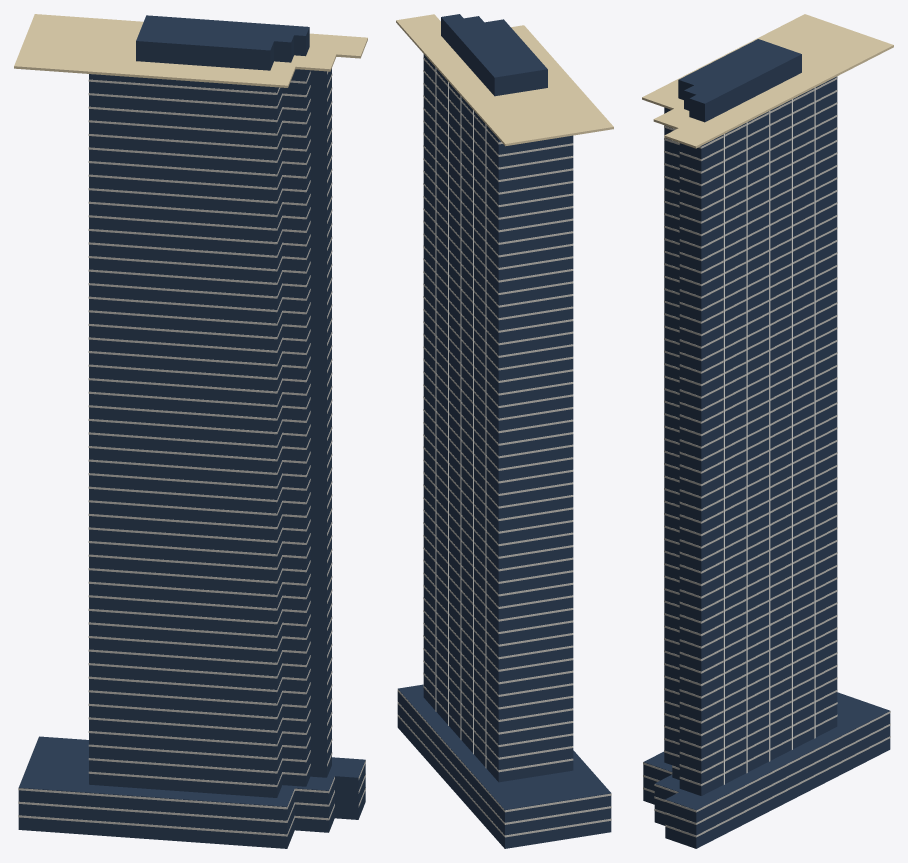
The model's file is vision-tower.glb.
3 renders of one model, left to right at view 1: azimuth 30°, elevation 25°; view 2: azimuth 150°, elevation 25°; view 3: azimuth 270°, elevation 25°, orthographic. The views are drawn at different scales.
Visible parts, largest first — view 1: B_532848581_vision-tower, B_532848581_vision-tower_gold, band.443, band.442, band.441, band.444, band.446, band.445, band.450, band.451, band.452, band.453 (+44 smaller); view 2: B_532848581_vision-tower, B_532848581_vision-tower_gold, mullion.025, mullion.029, mullion.027, mullion.028, mullion.026, band.442, band.443, band.441; view 3: B_532848581_vision-tower, B_532848581_vision-tower_gold, mullion.026, mullion.029, mullion.025, mullion.027, mullion.028, band.443, band.442, band.441.
Part boxes in pixels (bbox=[...]): B_532848581_vision-tower: bbox=[18, 15, 365, 848]; B_532848581_vision-tower_gold: bbox=[14, 14, 367, 87]; band.443: bbox=[18, 737, 365, 809]; band.442: bbox=[18, 774, 365, 822]; band.441: bbox=[18, 787, 365, 836]; band.444: bbox=[88, 752, 332, 787]; band.446: bbox=[88, 725, 332, 759]; band.445: bbox=[88, 738, 332, 773]; band.450: bbox=[88, 671, 332, 705]; band.451: bbox=[88, 657, 332, 692]; band.452: bbox=[88, 643, 332, 678]; band.453: bbox=[88, 630, 332, 664]; B_532848581_vision-tower: bbox=[397, 14, 611, 848]; B_532848581_vision-tower_gold: bbox=[396, 14, 613, 146]; mullion.025: bbox=[435, 67, 436, 711]; mullion.029: bbox=[485, 124, 486, 768]; mullion.027: bbox=[460, 96, 461, 739]; mullion.028: bbox=[473, 110, 473, 754]; mullion.026: bbox=[448, 82, 448, 725]; band.442: bbox=[397, 702, 611, 824]; band.443: bbox=[397, 689, 611, 812]; band.441: bbox=[397, 714, 611, 837]; B_532848581_vision-tower: bbox=[643, 39, 890, 848]; B_532848581_vision-tower_gold: bbox=[642, 14, 893, 148]; mullion.026: bbox=[746, 122, 747, 773]; mullion.029: bbox=[814, 87, 815, 738]; mullion.025: bbox=[723, 134, 724, 784]; mullion.027: bbox=[769, 111, 770, 761]; mullion.028: bbox=[791, 99, 792, 749]; band.443: bbox=[643, 711, 890, 812]; band.442: bbox=[643, 723, 890, 824]; band.441: bbox=[643, 736, 890, 837].
Size of the model in its own units: 102 by 260 by 82.21.
